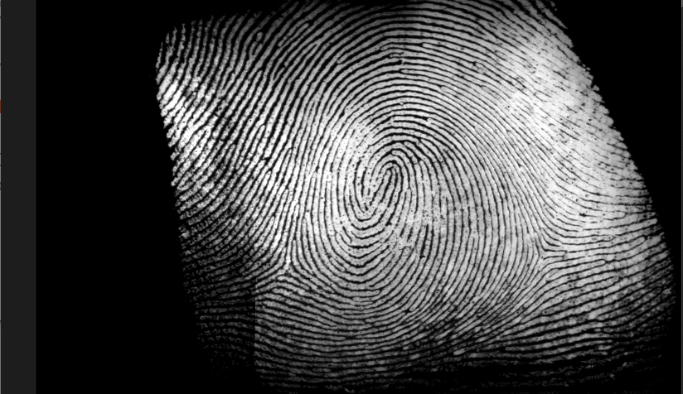nucelo: (371, 156, 407, 199)
verticilo: (526, 240, 562, 269), (271, 255, 300, 281)
